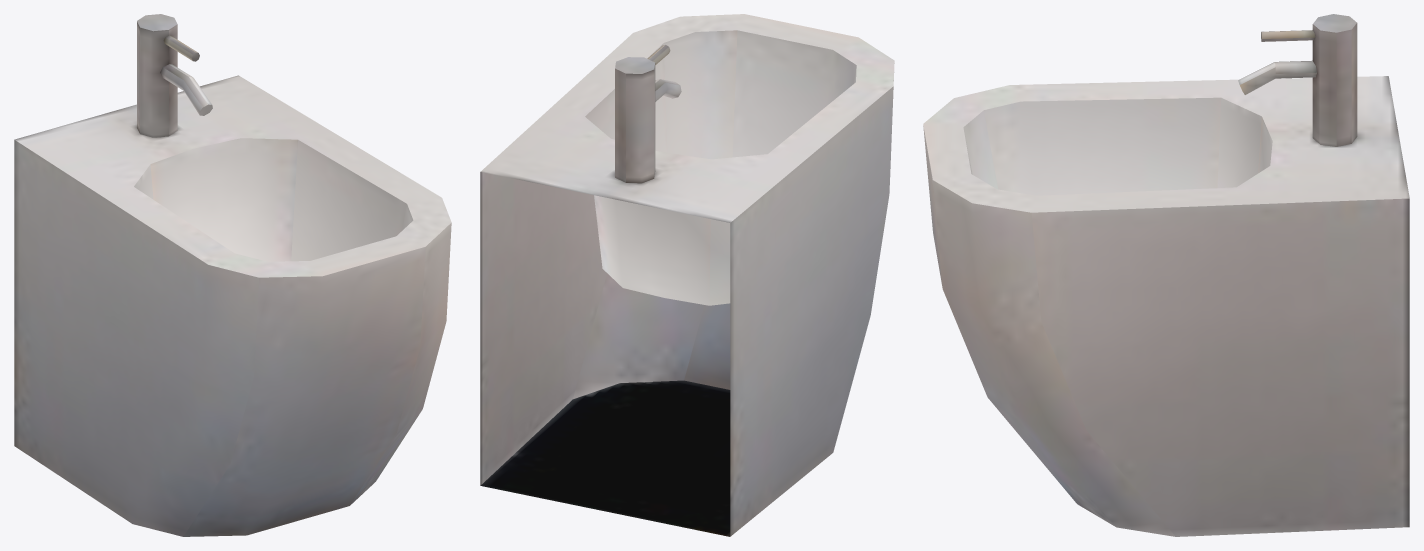
The picture shows the model from 3 angles, left to right: view 1: azimuth 30°, elevation 25°; view 2: azimuth 150°, elevation 25°; view 3: azimuth 270°, elevation 25°; orthographic projection. The views are drawn at different scales.
Visible parts, largest first — view 1: wc3; view 2: wc3; view 3: wc3.
Boxes of the visible parts, box(x1,y1,x2,y2) form: wc3: box(14, 14, 451, 536); wc3: box(480, 14, 894, 536); wc3: box(923, 14, 1409, 536).
Size of what is drawn, in the model's own units: 0.3906 by 0.5903 by 0.5876.
Materials: 1 (1 with a texture image).
